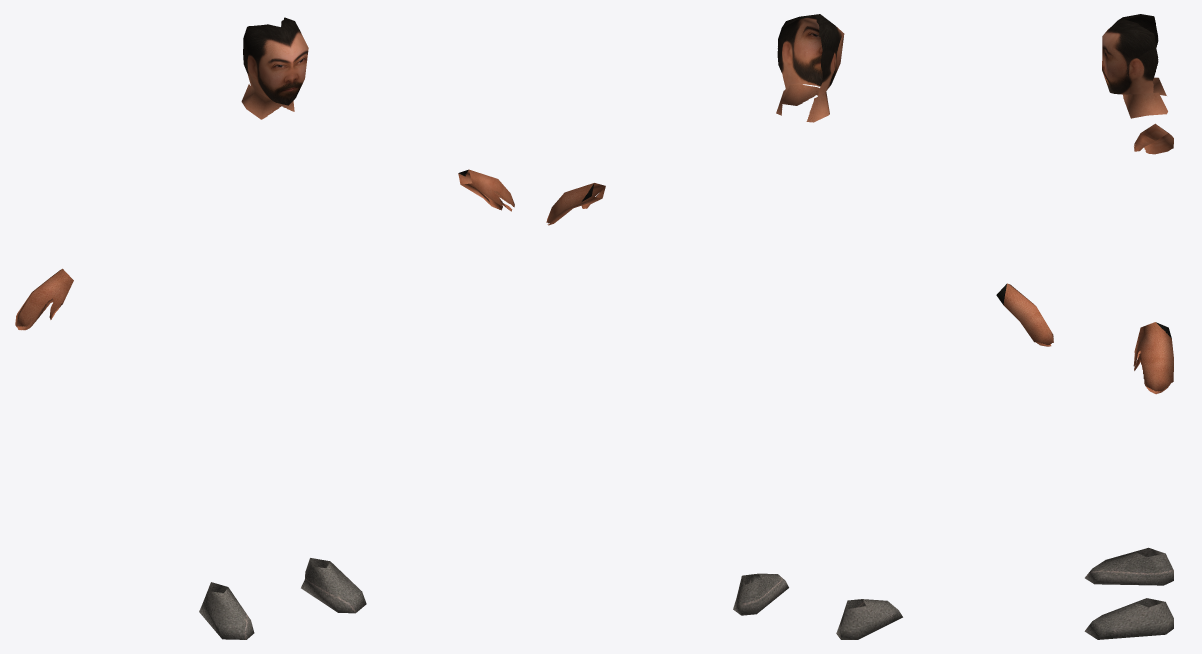
Rendered from Burak.fbx.
3 views of the same model, side by side, from view 1: azimuth 30°, elevation 25°; view 2: azimuth 150°, elevation 25°; view 3: azimuth 270°, elevation 25° (orthographic).
Parts seen in each view (by area): view 1: HumanoidBase_Overlapping; view 2: HumanoidBase_Overlapping; view 3: HumanoidBase_Overlapping.
Part boxes in pixels (bbox=[...]): HumanoidBase_Overlapping: bbox=[15, 17, 514, 639]; HumanoidBase_Overlapping: bbox=[546, 14, 1053, 639]; HumanoidBase_Overlapping: bbox=[1084, 14, 1173, 639].
Size of the model in its own units: 161 by 180 by 28.62.
Materials: 1 (1 with a texture image).
